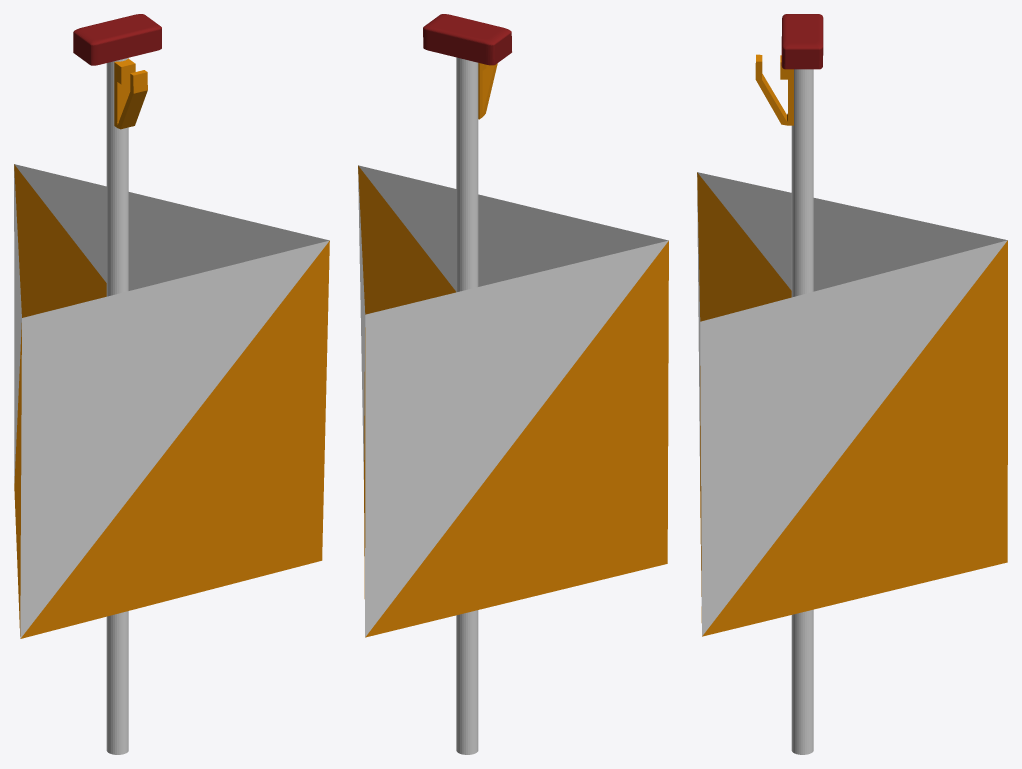
The model's file is controal.glb.
3 views of the same model, side by side, from view 1: azimuth 30°, elevation 25°; view 2: azimuth 150°, elevation 25°; view 3: azimuth 270°, elevation 25° (orthographic).
Visible parts, largest first — view 1: Cylinder.001, Cylinder, Cube.001, Cube.003; view 2: Cylinder.001, Cylinder, Cube.001, Cube.003; view 3: Cylinder.001, Cylinder, Cube.001, Cube.003.
Boxes of the visible parts, x1,y1,x2,y2 form: Cylinder.001: (14, 164, 329, 638); Cylinder: (106, 58, 128, 754); Cube.001: (73, 14, 161, 65); Cube.003: (114, 58, 147, 129); Cylinder.001: (358, 165, 668, 637); Cylinder: (456, 57, 478, 754); Cube.001: (423, 14, 511, 65); Cube.003: (478, 63, 497, 119); Cylinder.001: (697, 172, 1007, 636); Cylinder: (791, 69, 813, 754); Cube.001: (781, 14, 823, 69); Cube.003: (755, 54, 793, 125).
Bounding box in the file's own units: 2.6 × 5.79 × 2.26.
